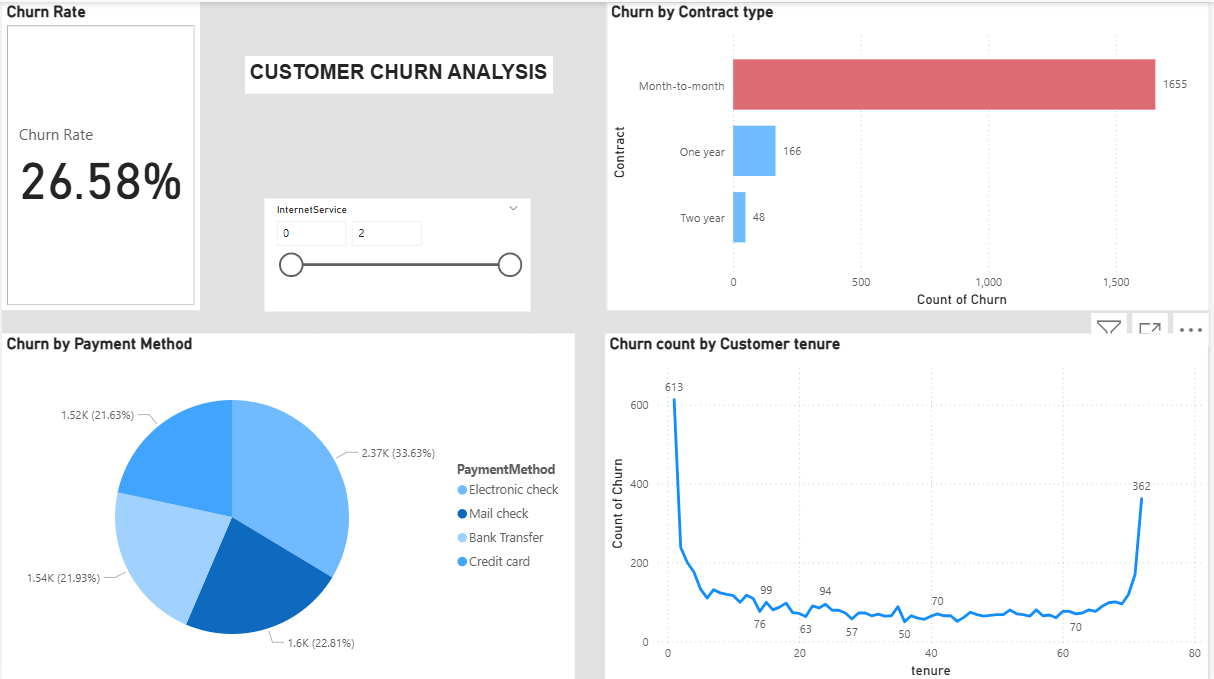

Layout of this report page (visuals, bound fields, positions):
{"tool":"powerbi","page":{"name":"Customer Churn Analysis","canvas":[1280,720],"ordinal":0},"visuals":[{"type":"cardVisual","title":"Churn Rate","fields":{"Data":["cleaned_churn.Churn Rate"]},"box":[0,0,209.8,326.9],"z":0},{"type":"clusteredBarChart","title":"Churn by Contract type","fields":{"Category":["cleaned_churn.Contract"],"Y":["CountNonNull(cleaned_churn.Churn)"]},"box":[641,0,639.4,327.7],"z":1000},{"type":"pieChart","title":"Churn by Payment Method","fields":{"Category":["cleaned_churn.PaymentMethod"],"Y":["CountNonNull(cleaned_churn.Churn)"]},"box":[0,351.4,607.2,369.2],"z":2000},{"type":"lineChart","title":"Churn count by Customer tenure","fields":{"Category":["cleaned_churn.tenure"],"Y":["CountNonNull(cleaned_churn.Churn)"]},"box":[639.6,351.4,639.6,369.2],"z":3000},{"type":"slicer","fields":{"Values":["cleaned_churn.InternetService"]},"box":[278.4,208.4,281.5,119.3],"z":4000},{"type":"textbox","box":[257,56.7,326.9,39.7],"z":5000}]}

Visuals, with their boxes in screenshot pixels (x1, y1, x2, y2), scaled from the page's 1280x720 canvas onto the 1214x679 screenshot:
"Churn Rate" cardVisual: bbox=(0, 0, 199, 308)
"Churn by Contract type" clusteredBarChart: bbox=(608, 0, 1213, 309)
"Churn by Payment Method" pieChart: bbox=(0, 331, 576, 678)
"Churn count by Customer tenure" lineChart: bbox=(607, 331, 1213, 678)
slicer - cleaned_churn.InternetService: bbox=(264, 197, 531, 309)
textbox: bbox=(244, 53, 554, 91)
